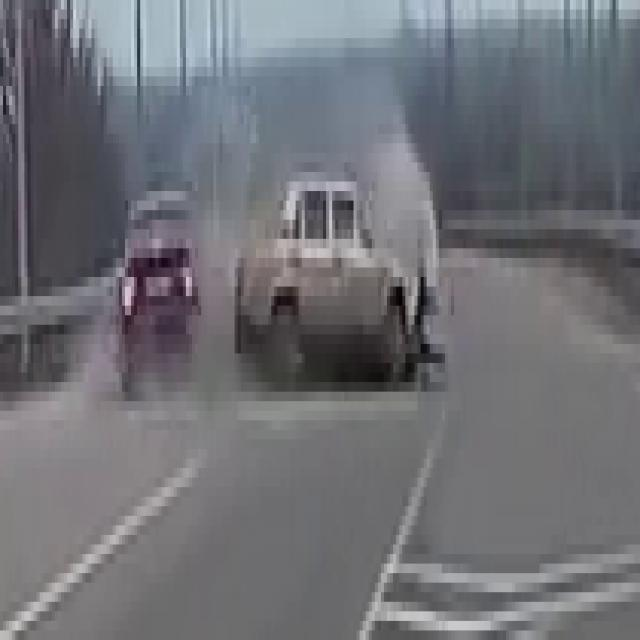accident: (228, 125, 442, 433), (100, 162, 226, 386)
